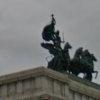Statue: (37, 12, 97, 81)
